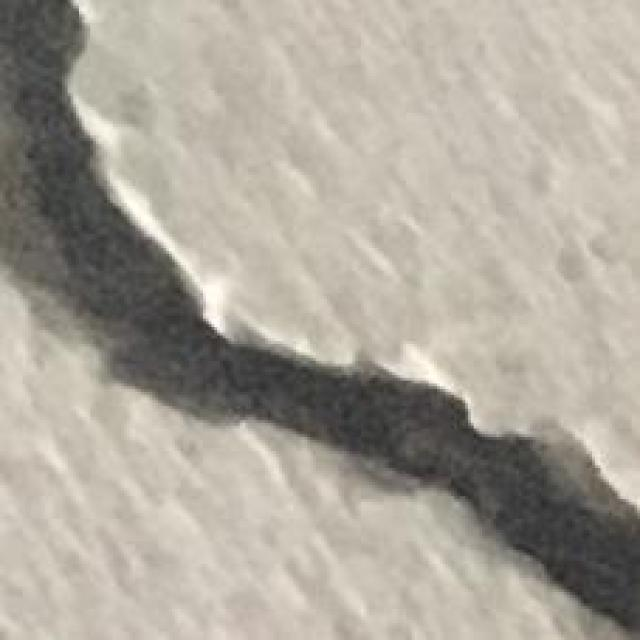Crack: (3, 3, 637, 637)
